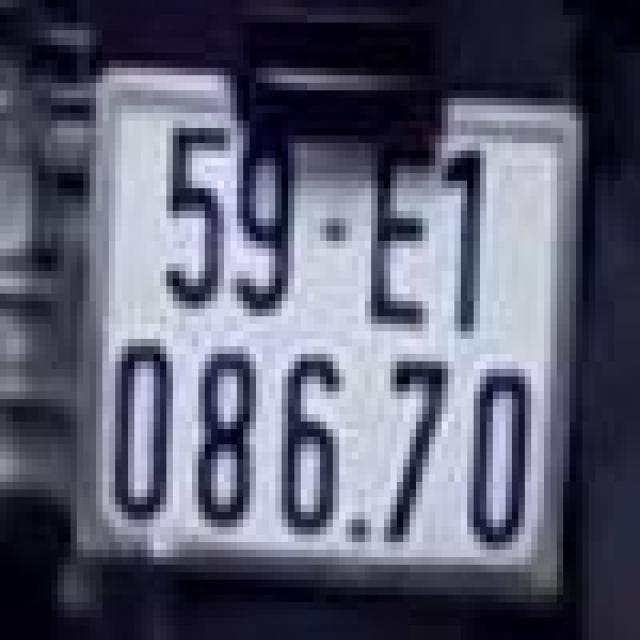0: (96, 327, 186, 531), (470, 350, 534, 554)
1: (438, 139, 489, 343)
5: (167, 109, 230, 313)
6: (269, 320, 339, 546)
7: (380, 342, 458, 554)
8: (192, 331, 256, 550)
9: (234, 113, 304, 316)
E: (365, 124, 435, 335)
